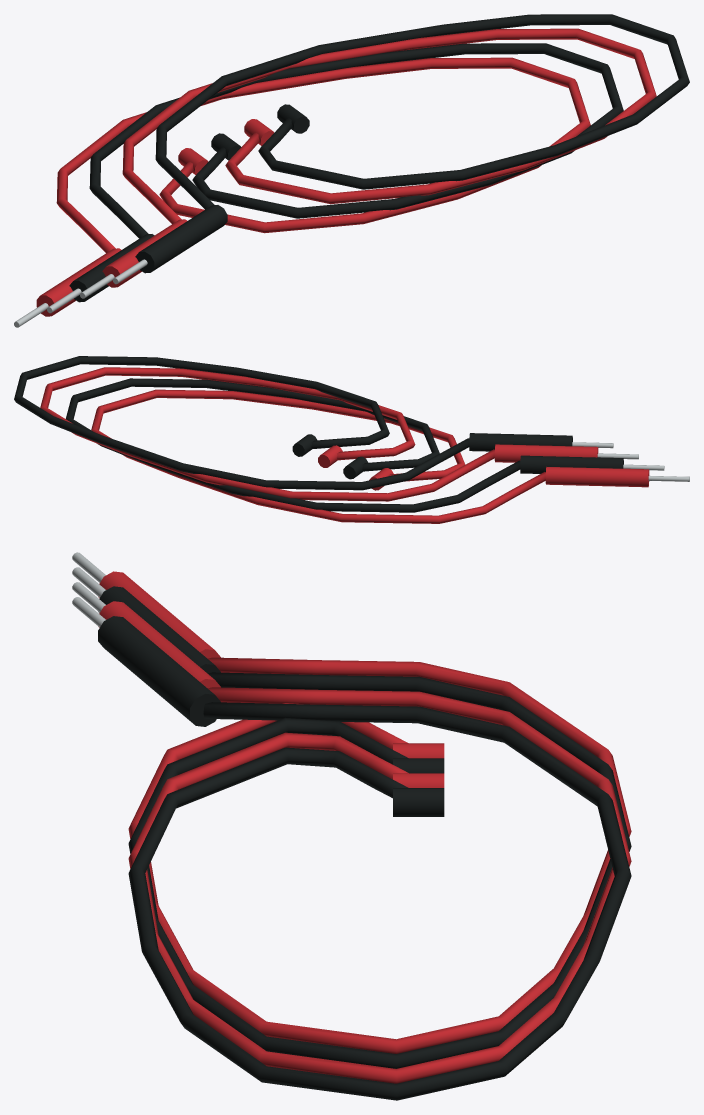
Rendered from lod2_source.glb.
3 renders of one model, top to bottom at view 1: azimuth 30°, elevation 25°; view 2: azimuth 150°, elevation 25°; view 3: azimuth 270°, elevation 25°, orthographic. The views are drawn at different scales.
Visible parts, largest first — view 1: Loose unconnected test lead.003, Loose unconnected test lead.002, Loose unconnected test lead.001, Loose unconnected test lead, Insulated resting probe.003, Insulated resting probe, Insulated resting probe.002, Insulated resting probe.001, Disconnected plug.003; view 2: Loose unconnected test lead.003, Loose unconnected test lead.002, Loose unconnected test lead.001, Loose unconnected test lead, Insulated resting probe, Insulated resting probe.003, Insulated resting probe.002, Insulated resting probe.001, Disconnected plug.001, Disconnected plug.003, Disconnected plug.002; view 3: Loose unconnected test lead.003, Loose unconnected test lead.002, Loose unconnected test lead.001, Loose unconnected test lead, Insulated resting probe.003, Insulated resting probe.002, Insulated resting probe.001, Insulated resting probe, Disconnected plug.003.
Part boxes in pixels (bbox=[...]): Loose unconnected test lead.003: bbox=[155, 14, 689, 209]; Loose unconnected test lead.002: bbox=[122, 28, 656, 223]; Loose unconnected test lead.001: bbox=[89, 43, 623, 238]; Loose unconnected test lead: bbox=[56, 57, 590, 253]; Insulated resting probe.003: bbox=[135, 205, 227, 273]; Insulated resting probe: bbox=[36, 248, 121, 316]; Insulated resting probe.002: bbox=[102, 219, 187, 287]; Insulated resting probe.001: bbox=[69, 234, 154, 302]; Disconnected plug.003: bbox=[277, 104, 309, 133]; Loose unconnected test lead.003: bbox=[14, 356, 469, 490]; Loose unconnected test lead.002: bbox=[40, 367, 494, 501]; Loose unconnected test lead.001: bbox=[66, 378, 520, 512]; Loose unconnected test lead: bbox=[91, 389, 545, 523]; Insulated resting probe: bbox=[545, 466, 649, 487]; Insulated resting probe.003: bbox=[469, 433, 572, 451]; Insulated resting probe.002: bbox=[494, 444, 598, 462]; Insulated resting probe.001: bbox=[520, 455, 623, 473]; Disconnected plug.001: bbox=[343, 456, 368, 479]; Disconnected plug.003: bbox=[292, 434, 316, 456]; Disconnected plug.002: bbox=[318, 445, 342, 467]; Loose unconnected test lead.003: bbox=[128, 702, 631, 1100]; Loose unconnected test lead.002: bbox=[128, 687, 631, 1083]; Loose unconnected test lead.001: bbox=[128, 672, 631, 1068]; Loose unconnected test lead: bbox=[128, 657, 631, 1053]; Insulated resting probe.003: bbox=[98, 616, 220, 726]; Insulated resting probe.002: bbox=[98, 601, 220, 688]; Insulated resting probe.001: bbox=[98, 586, 220, 673]; Insulated resting probe: bbox=[98, 571, 220, 658]; Disconnected plug.003: bbox=[393, 788, 444, 816].
Size of the model in its own units: 0.3709 by 0.023 by 0.1521.
